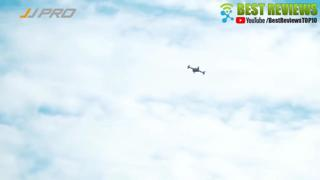UAV: (188, 65, 206, 76)
